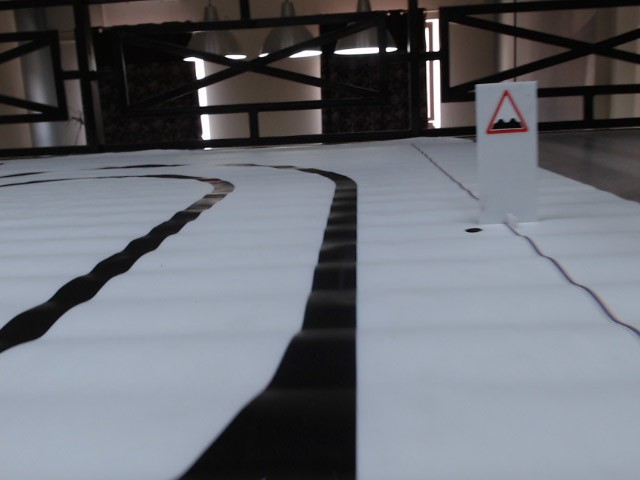Nerov: (486, 89, 530, 139)
